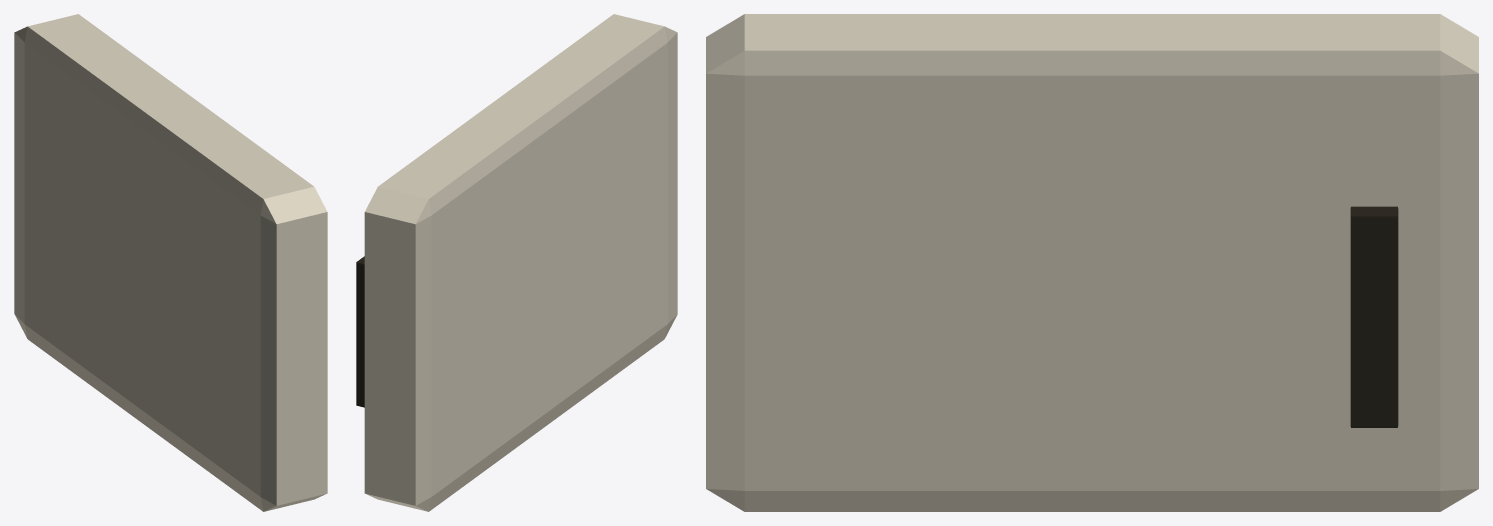
Rendered from FridgeFreezerDoorV1.fbx.
The picture shows the model from 3 angles, left to right: view 1: azimuth 30°, elevation 25°; view 2: azimuth 150°, elevation 25°; view 3: azimuth 270°, elevation 25°; orthographic projection. The views are drawn at different scales.
Visible parts, largest first — view 1: FreezerDoor; view 2: FreezerDoor; view 3: FreezerDoor.
Part boxes in pixels (x1,y1,x2,y2): FreezerDoor: [14, 14, 327, 511]; FreezerDoor: [356, 14, 677, 511]; FreezerDoor: [706, 14, 1478, 511].
Bounding box in the file's own units: 497 × 98.35 × 327.
